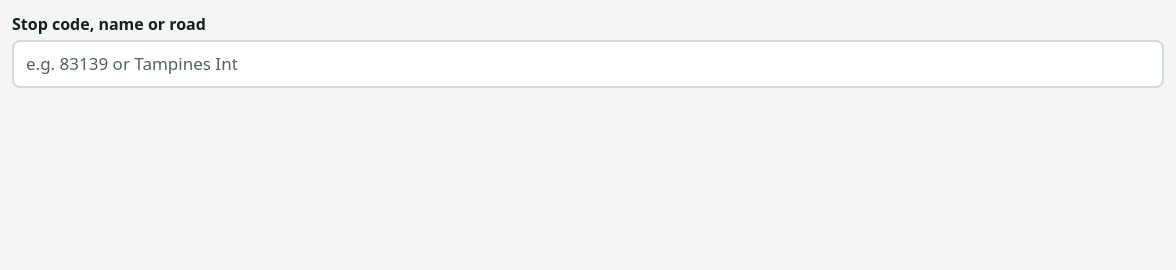
StopSearch › asks people to wait when the API says too many requests, with a working retry
This screenshot has width=1176, height=270.
Type "tampines" into the search field labelled "Stop code, name or road".
click(588, 64); type("tampines")  # box x1=12 y1=40 x2=1164 y2=88
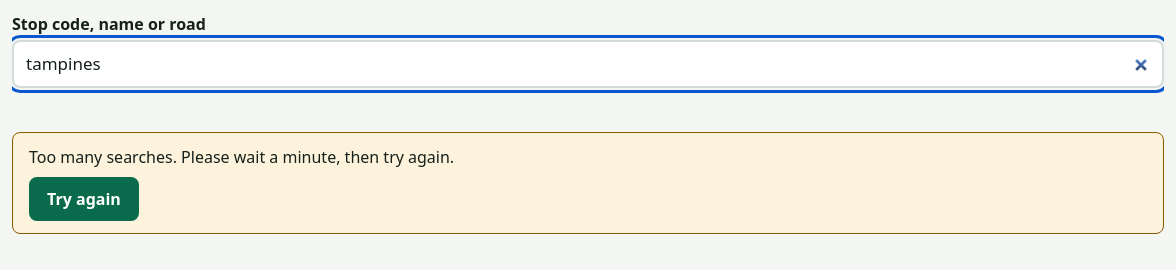
Expected: the message "Too many searches. Please wait a minute, then try again. Try again" is shown, x1=12 y1=132 x2=1164 y2=234
Click the button "Try again".
click(84, 199)  # box x1=29 y1=177 x2=139 y2=221
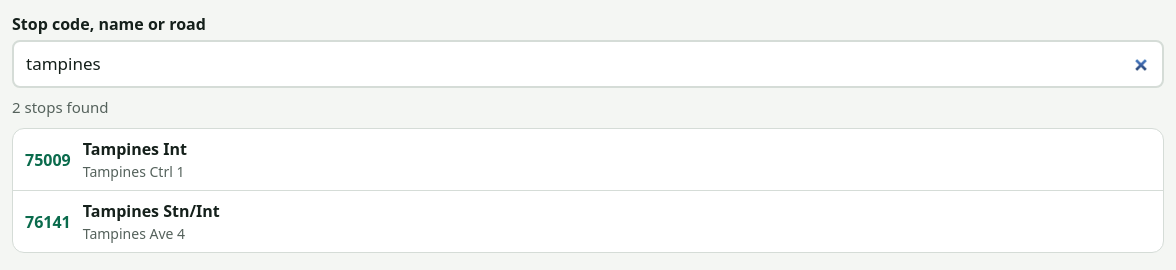
Expected: the link "75009 Tampines Int Tampines Ctrl 1" is shown, x1=25 y1=138 x2=187 y2=181
